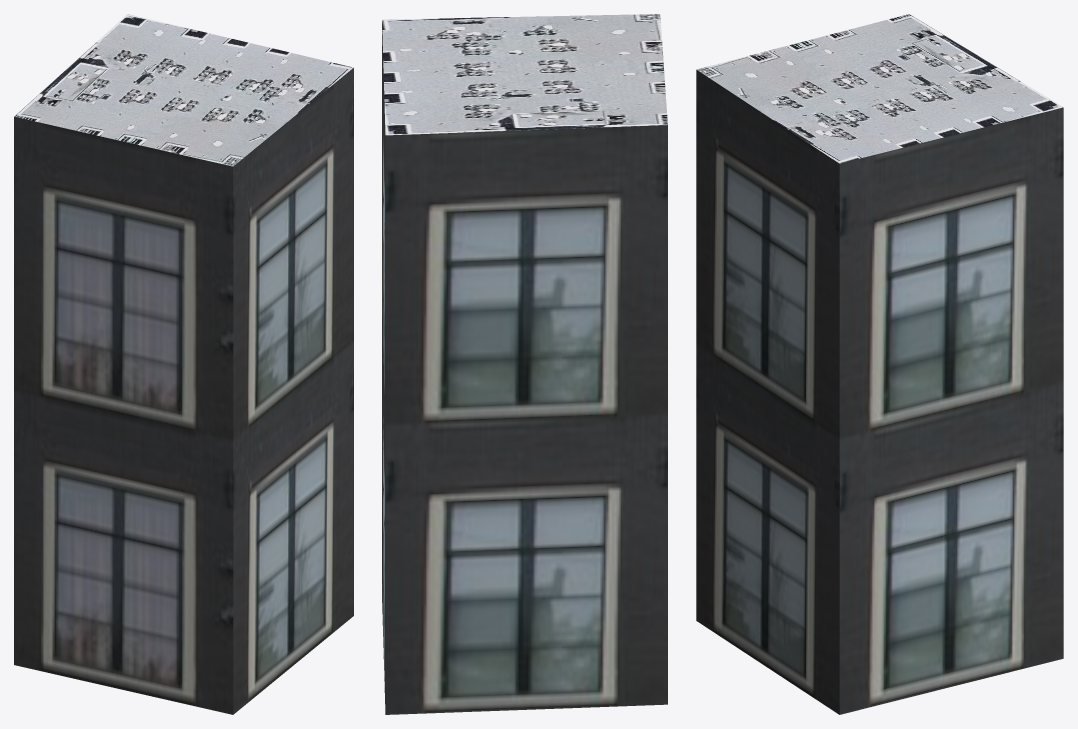
The model's file is ResTex__1496.fbx.
The picture shows the model from 3 angles, left to right: view 1: azimuth 30°, elevation 25°; view 2: azimuth 150°, elevation 25°; view 3: azimuth 270°, elevation 25°; orthographic projection. The views are drawn at different scales.
Visible parts, largest first — view 1: CityEngineMaterial_22_m, CityEngineMaterial_2_m; view 2: CityEngineMaterial_22_m, CityEngineMaterial_2_m; view 3: CityEngineMaterial_22_m, CityEngineMaterial_2_m.
Boxes of the visible parts, x1,y1,x2,y2 form: CityEngineMaterial_22_m: (14,68,353,714); CityEngineMaterial_2_m: (14,14,353,166); CityEngineMaterial_22_m: (382,23,667,714); CityEngineMaterial_2_m: (382,14,667,135); CityEngineMaterial_22_m: (696,70,1063,714); CityEngineMaterial_2_m: (696,14,1063,163).
Bounding box in the file's own units: 3.49 × 6 × 3.62.
2 materials, 2 textured.
